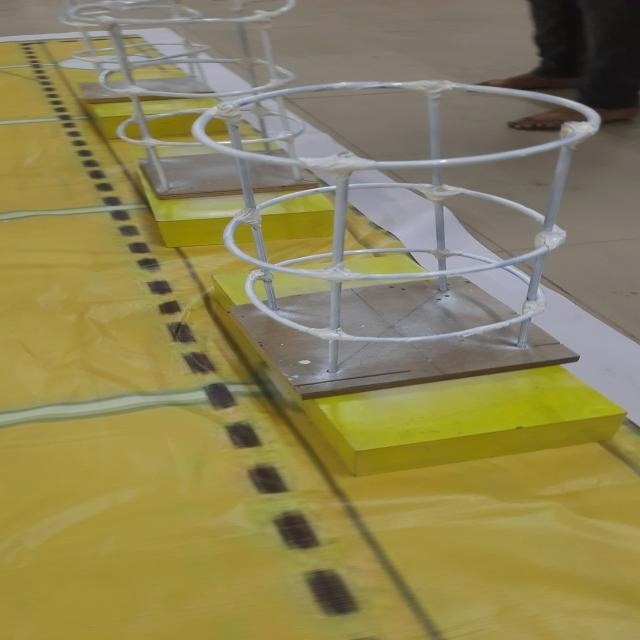silo: (200, 75, 609, 396), (75, 0, 345, 204)
